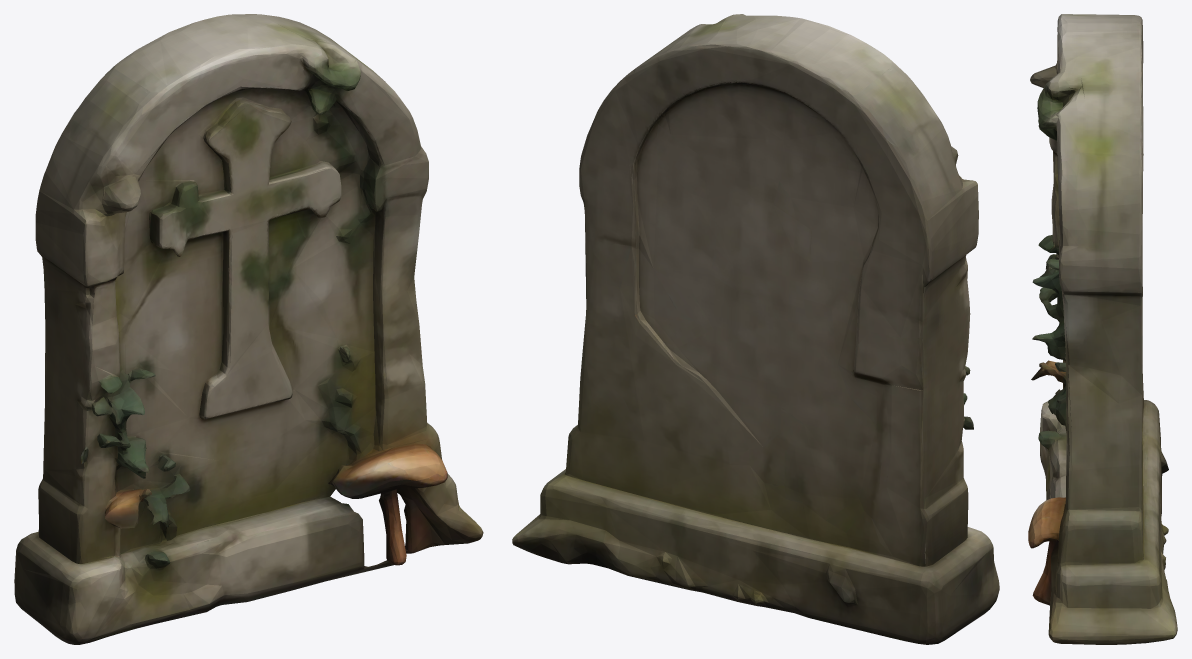
File: tombstone_cross.glb
3 renders of one model, left to right at view 1: azimuth 30°, elevation 25°; view 2: azimuth 150°, elevation 25°; view 3: azimuth 270°, elevation 25°, orthographic. The views are drawn at different scales.
Parts seen in each view (by area): view 1: geometry_0; view 2: geometry_0; view 3: geometry_0.
Part boxes in pixels (left/top/right/bottom): geometry_0: left=14, top=14, right=483, bottom=644; geometry_0: left=512, top=14, right=999, bottom=644; geometry_0: left=1028, top=14, right=1177, bottom=644.
Size of the model in its own units: 0.8005 by 0.9988 by 0.2655.
Materials: 1 (1 with a texture image).
